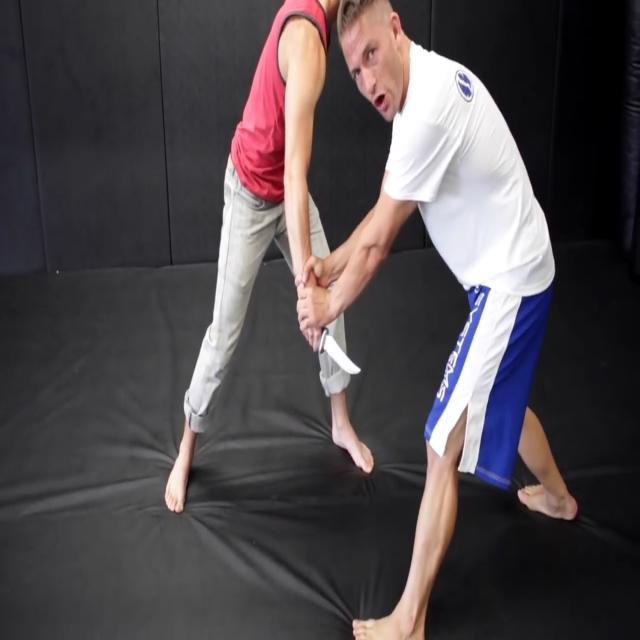knife: (323, 325, 365, 378)
